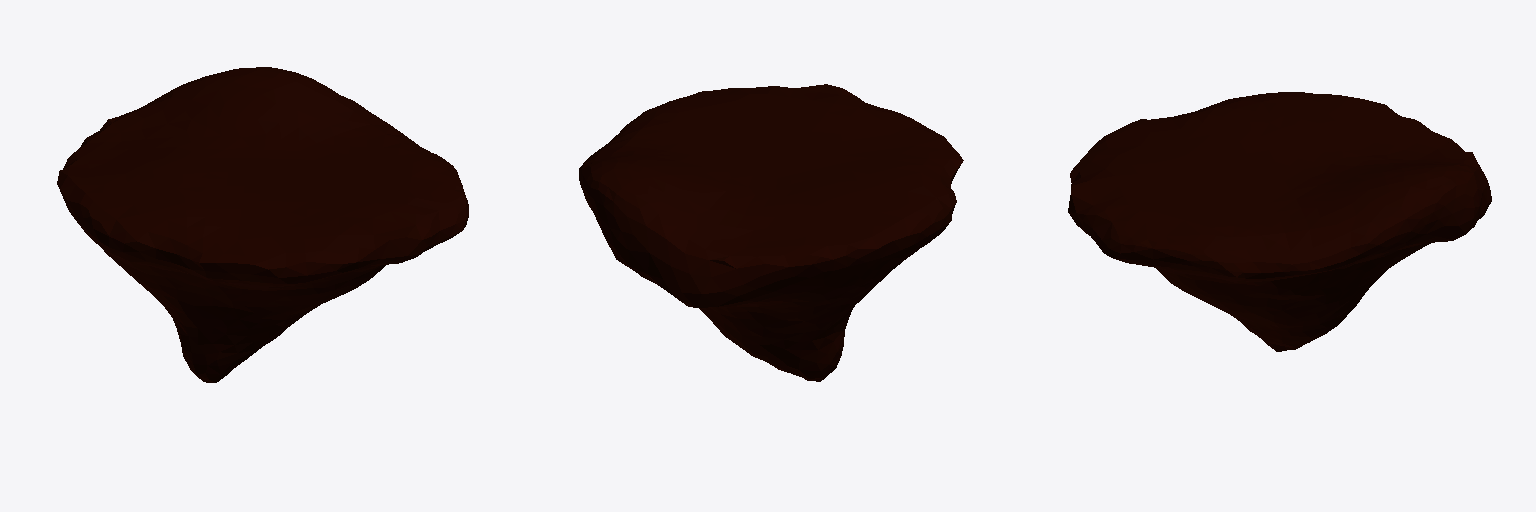
Rendered from Poop.obj.
The picture shows the model from 3 angles: view 1: azimuth 30°, elevation 25°; view 2: azimuth 150°, elevation 25°; view 3: azimuth 270°, elevation 25°; orthographic projection.
Parts seen in each view (by area): view 1: Cone; view 2: Cone; view 3: Cone.
Part boxes in pixels (x1,y1,x2,y2): Cone: (57, 67, 468, 382); Cone: (579, 84, 963, 381); Cone: (1068, 92, 1491, 351).
Bounding box in the file's own units: 2.11 × 1.35 × 2.28.